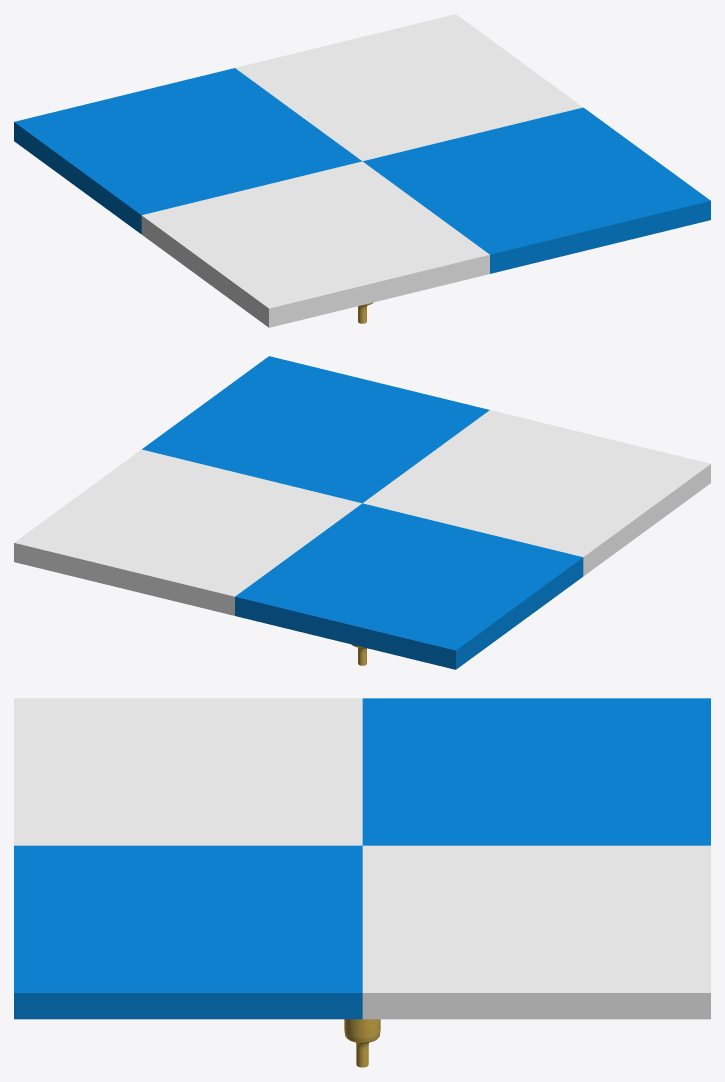
Rendered from gold_attack_board.fbx.
3 renders of one model, top to bottom at view 1: azimuth 30°, elevation 25°; view 2: azimuth 150°, elevation 25°; view 3: azimuth 270°, elevation 25°, orthographic. The views are drawn at different scales.
Visible parts, largest first — view 1: Cylinder; view 2: Cylinder; view 3: Cylinder.
Part boxes in pixels (x1,y1,x2,y2): Cylinder: (14, 14, 710, 327); Cylinder: (14, 356, 710, 669); Cylinder: (14, 698, 710, 1067).
Bounding box in the file's own units: 11.43 × 3.97 × 11.43.
